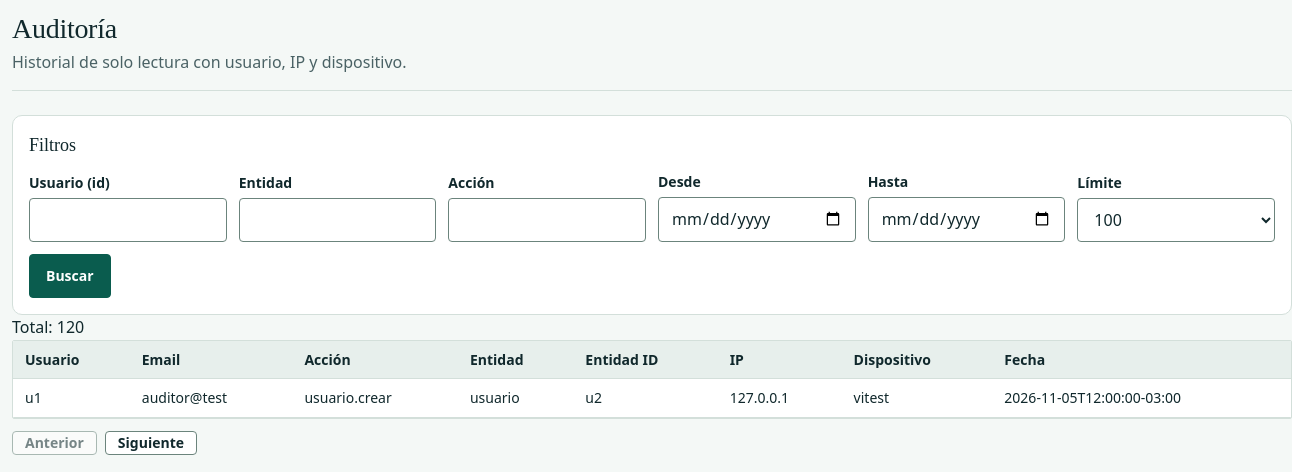
Scenario: AuditoriaPage › pagina por offset sin controles de escritura
This screenshot has width=1292, height=472.
Later steps or results of the test are not shown.
Expected: the text "usuario.crear" is shown, x1=292 y1=379 x2=458 y2=418
Click the button "Siguiente": x=151, y=443 x1=105 y1=431 x2=197 y2=455
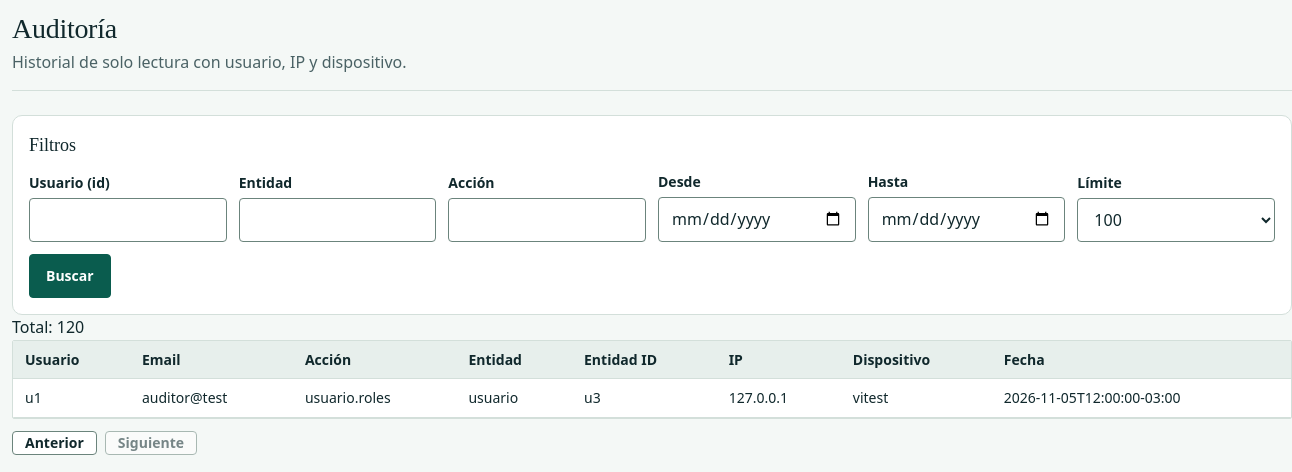
Expected: the text "usuario.roles" is shown, x1=293 y1=379 x2=456 y2=418
